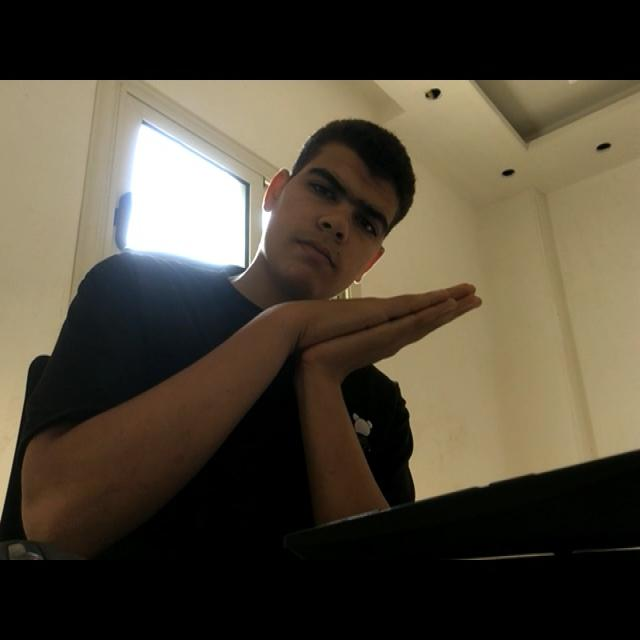Please: (213, 256, 507, 396)
